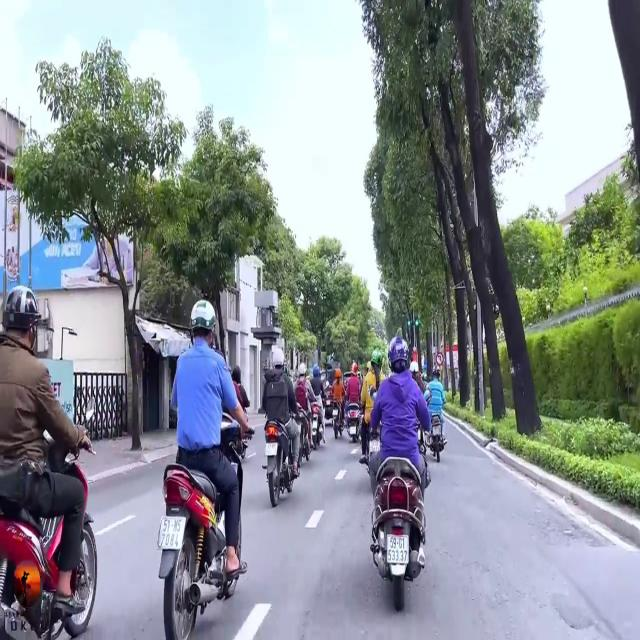bien_trang: (384, 534, 412, 568), (159, 517, 186, 551)
